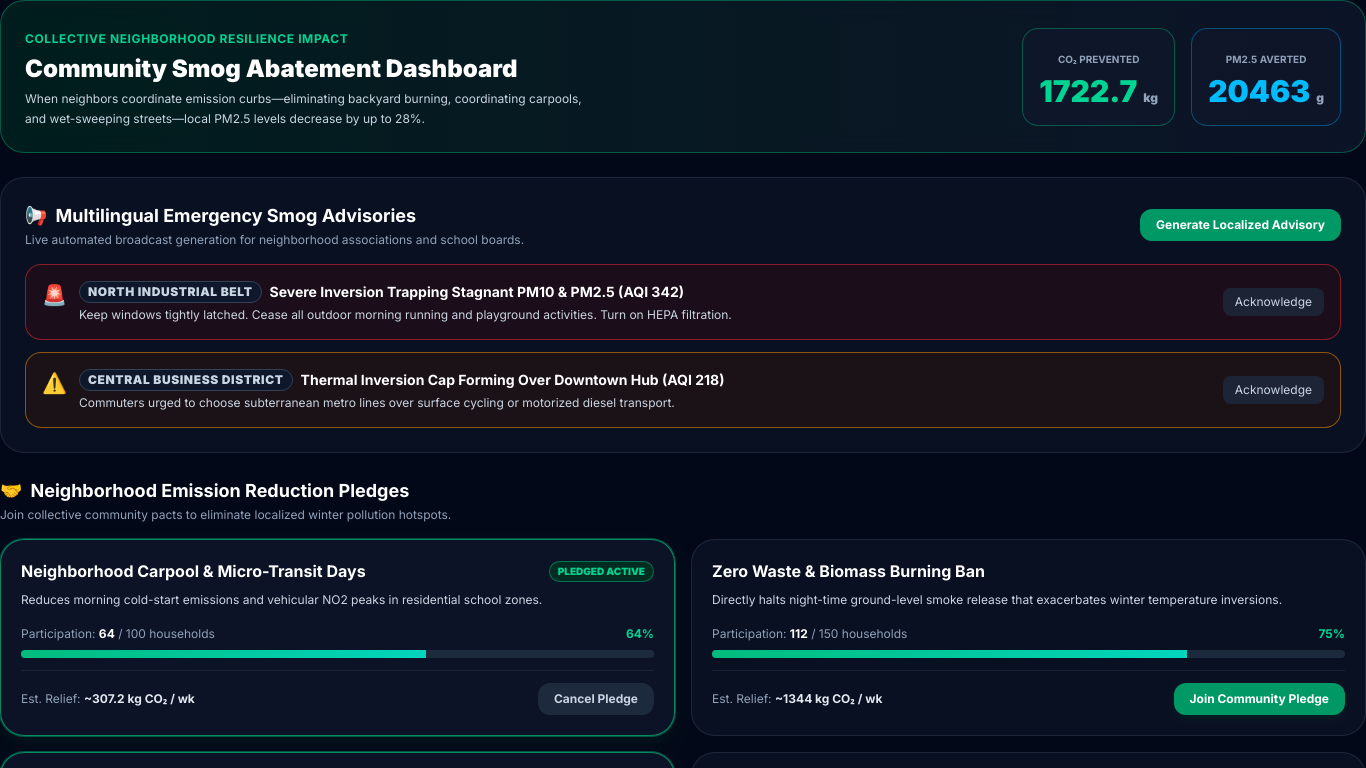
Scenario: Community Pledge Action › toggles user pledge participation on button click
The image size is (1366, 768).
Click the button "Cancel Pledge" at (596, 698), box [538,682,654,714]
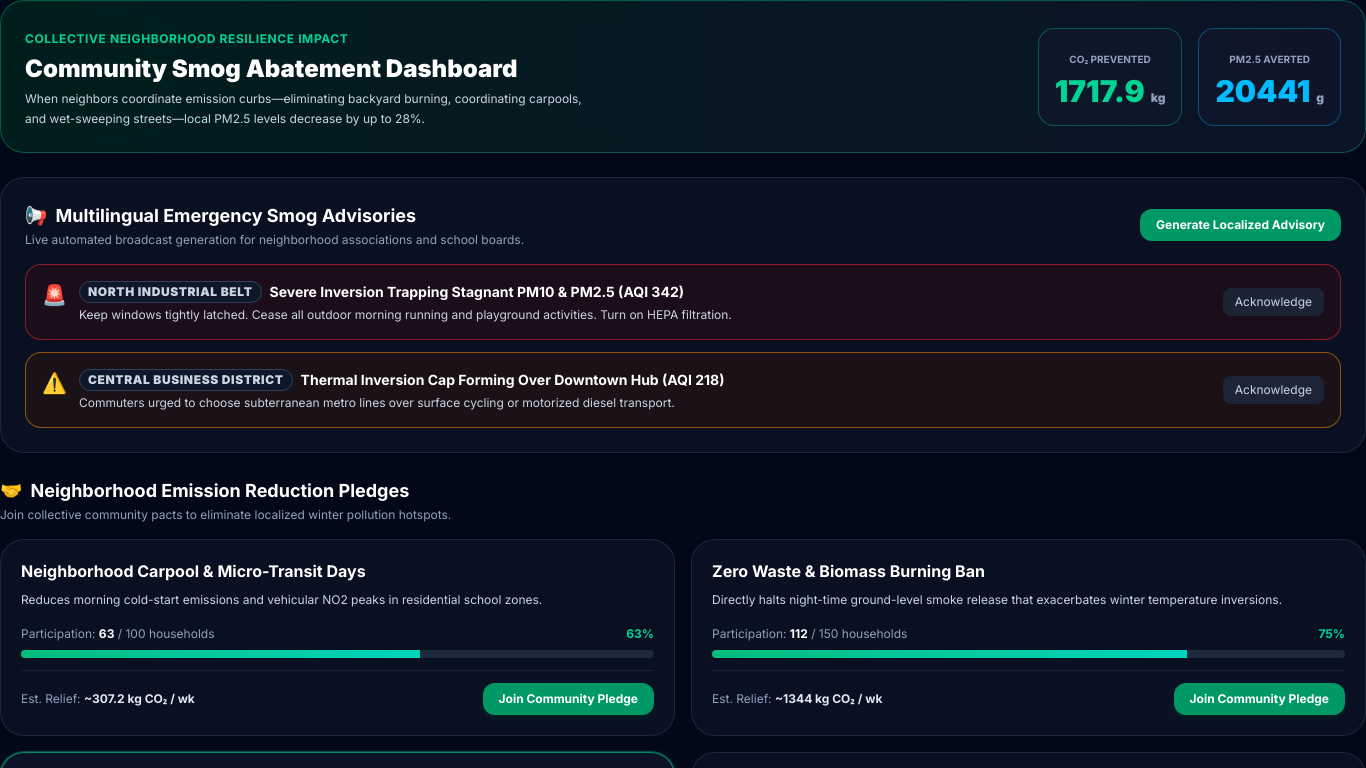
Now the text "Cancel Pledge" is gone
